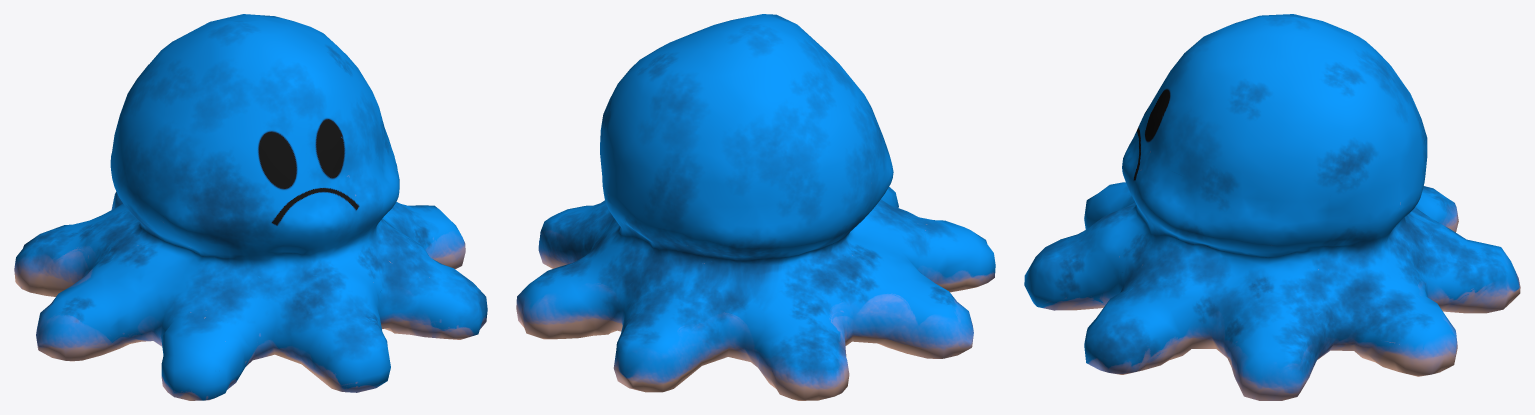
The model's file is octupus2.fbx.
3 renders of one model, left to right at view 1: azimuth 30°, elevation 25°; view 2: azimuth 150°, elevation 25°; view 3: azimuth 270°, elevation 25°, orthographic.
Visible parts, largest first — view 1: Sphere; view 2: Sphere; view 3: Sphere.
Boxes of the visible parts, left/top/right/bottom form: Sphere: left=14, top=14, right=487, bottom=400; Sphere: left=516, top=14, right=995, bottom=400; Sphere: left=1024, top=14, right=1520, bottom=400.
Bounding box in the file's own units: 363 × 232 × 363.
1 material, 1 textured.
